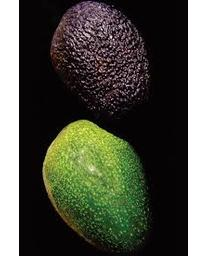avocado: (42, 118, 151, 253), (49, 1, 151, 118)
